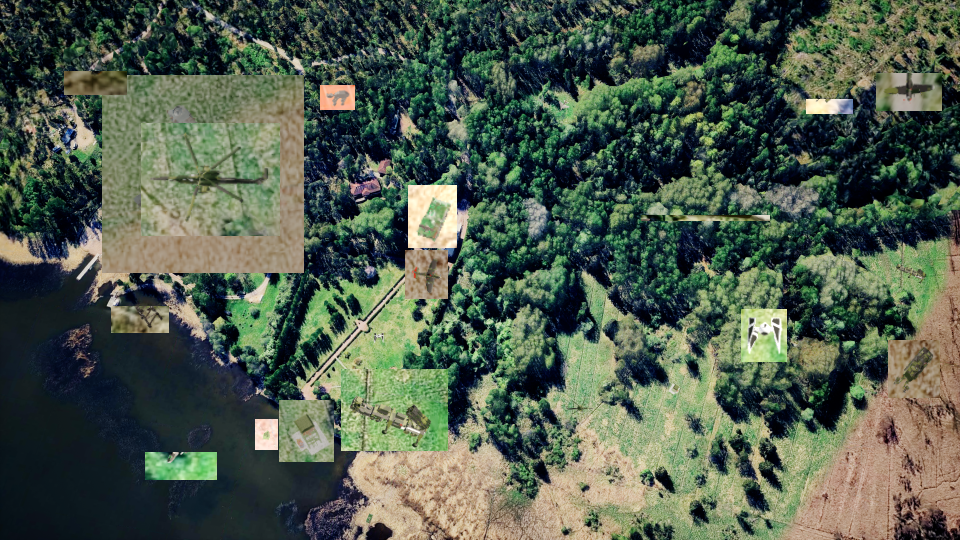condor: (102, 75, 304, 273)
hangar: (641, 215, 770, 221)
helicopter: (141, 123, 280, 236)
jammer: (408, 185, 457, 248)
jet_plane: (145, 452, 217, 480)
large_launcher: (341, 369, 448, 451)
large_tower: (111, 306, 169, 333)
medium_launcher: (64, 71, 127, 95)
medium_plane: (876, 73, 942, 111)
mine_roller: (888, 340, 940, 398)
small_launcher: (255, 419, 278, 450)
small_plane: (405, 250, 448, 299)
small_tower: (279, 400, 334, 462)
spacecraft: (741, 309, 787, 362)
ta-ta: (320, 85, 355, 110)
tank: (806, 99, 853, 114)
